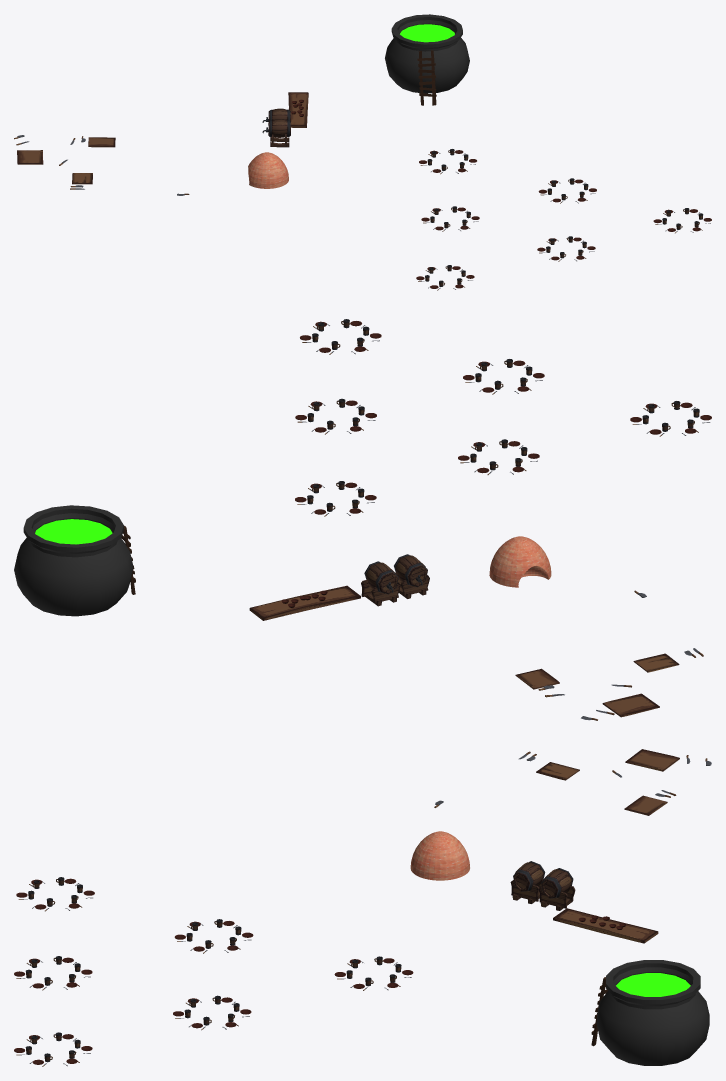
Rendered from PROPS1.fbx.
3 renders of one model, top to bottom at view 1: azimuth 30°, elevation 25°; view 2: azimuth 150°, elevation 25°; view 3: azimuth 270°, elevation 25°, orthographic. The views are drawn at different scales.
Visible parts, largest first — view 1: Pot.014, Sphere, Pot.013, SM_PROP_ladder_dungeon_01.001, SM_PROP_barrel_dungeon_05.002, SM_PROP_beam_wood_dungeon_05.001; view 2: Pot.014, Sphere, SM_PROP_beam_wood_dungeon_05.001, Pot.013, SM_PROP_barrel_dungeon_05.001, SM_PROP_barrel_dungeon_05.002, SM_PROP_beam_wood_dungeon_05.002, SM_PROP_cup_dungeon_03.005, SM_PROP_cup_dungeon_03.002, SM_PROP_cup_dungeon_03.003, SM_PROP_cup_dungeon_03.004, SM_PROP_cup_dungeon_03.007 (+1 smaller); view 3: Pot.014, Sphere, SM_PROP_beam_wood_dungeon_05.001, Pot.013, SM_PROP_barrel_dungeon_05.001, SM_PROP_barrel_dungeon_05.002, SM_PROP_beam_wood_dungeon_05.002, SM_PROP_cup_dungeon_03.005, SM_PROP_cup_dungeon_03.004, SM_PROP_cup_dungeon_03.002, SM_PROP_cup_dungeon_03.007, SM_PROP_cup_dungeon_03.003 (+2 smaller).
Part boxes in pixels (<box>): Pot.014: <box>385,14,469,93</box>; Sphere: <box>248,152,288,188</box>; Pot.013: <box>400,24,454,42</box>; SM_PROP_ladder_dungeon_01.001: <box>417,50,436,105</box>; SM_PROP_barrel_dungeon_05.002: <box>262,119,290,147</box>; SM_PROP_beam_wood_dungeon_05.001: <box>288,92,308,127</box>; Pot.014: <box>14,505,133,616</box>; Sphere: <box>489,536,551,587</box>; SM_PROP_beam_wood_dungeon_05.001: <box>249,585,360,620</box>; Pot.013: <box>35,519,112,544</box>; SM_PROP_barrel_dungeon_05.001: <box>361,561,400,606</box>; SM_PROP_barrel_dungeon_05.002: <box>394,554,429,598</box>; SM_PROP_beam_wood_dungeon_05.002: <box>602,693,659,717</box>; SM_PROP_cup_dungeon_03.005: <box>295,398,376,434</box>; SM_PROP_cup_dungeon_03.002: <box>463,359,544,394</box>; SM_PROP_cup_dungeon_03.003: <box>630,401,711,436</box>; SM_PROP_cup_dungeon_03.004: <box>458,439,539,474</box>; SM_PROP_cup_dungeon_03.007: <box>295,481,376,516</box>; Pot.014: <box>596,960,709,1065</box>; Sphere: <box>410,831,469,880</box>; SM_PROP_beam_wood_dungeon_05.001: <box>553,908,658,943</box>; Pot.013: <box>616,973,690,996</box>; SM_PROP_barrel_dungeon_05.001: <box>539,868,575,910</box>; SM_PROP_barrel_dungeon_05.002: <box>510,861,545,903</box>; SM_PROP_beam_wood_dungeon_05.002: <box>625,749,679,771</box>; SM_PROP_cup_dungeon_03.005: <box>173,995,251,1030</box>; SM_PROP_cup_dungeon_03.004: <box>174,919,253,953</box>; SM_PROP_cup_dungeon_03.002: <box>14,956,92,990</box>; SM_PROP_cup_dungeon_03.007: <box>334,956,413,990</box>; SM_PROP_cup_dungeon_03.003: <box>16,877,94,911</box>.
Bounding box in the file's own units: 20.4 × 2.33 × 19.49.
Materials: 40 (37 with a texture image).
